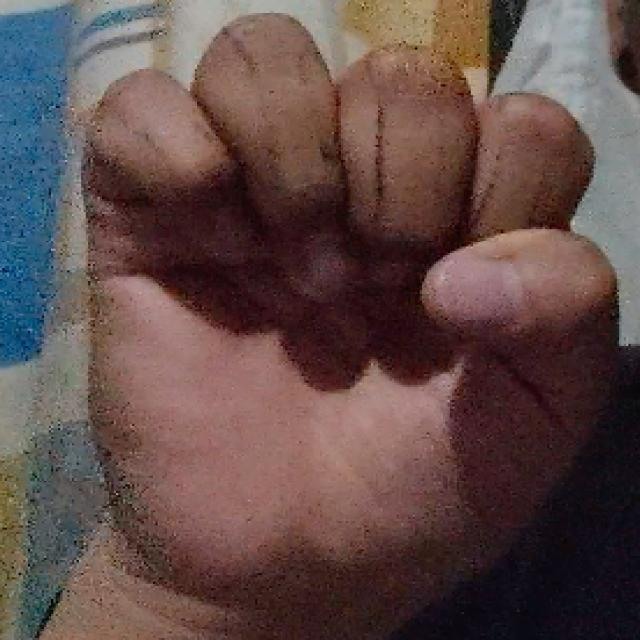S: (68, 6, 624, 618)
